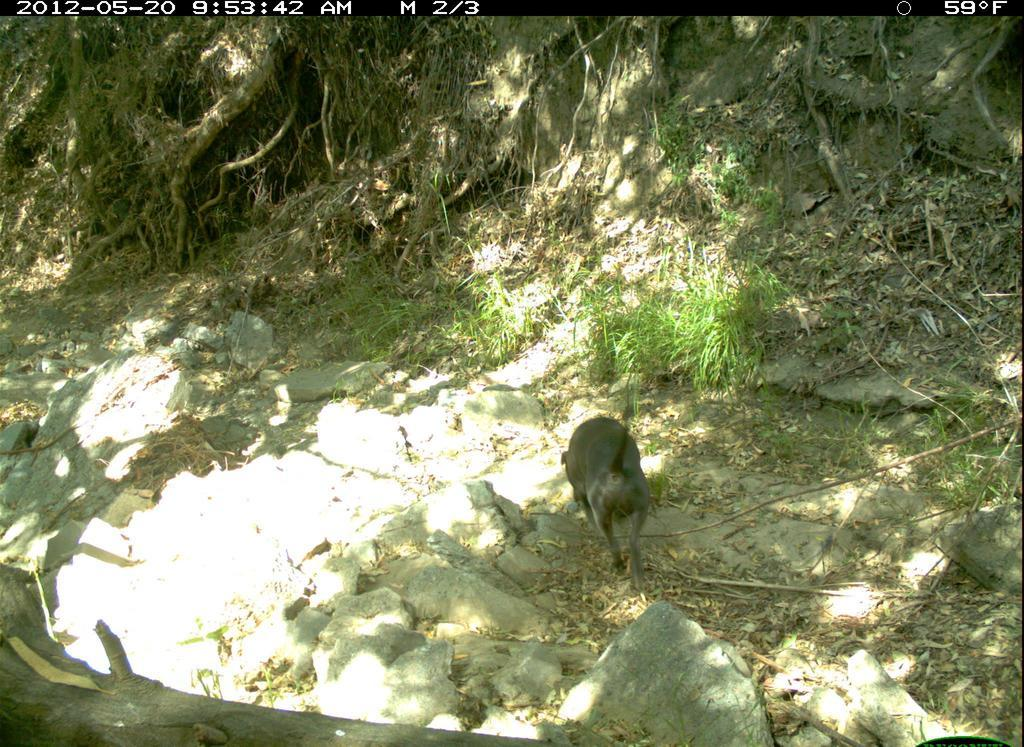dog: (557, 406, 661, 596)
